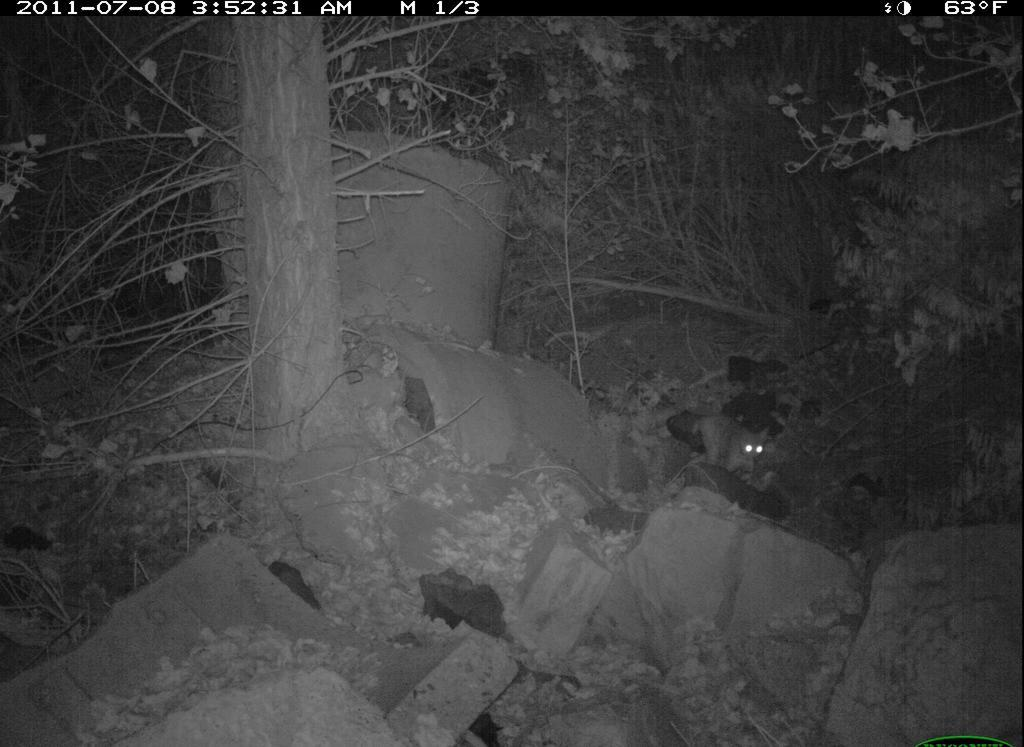bobcat: (678, 400, 779, 500)
